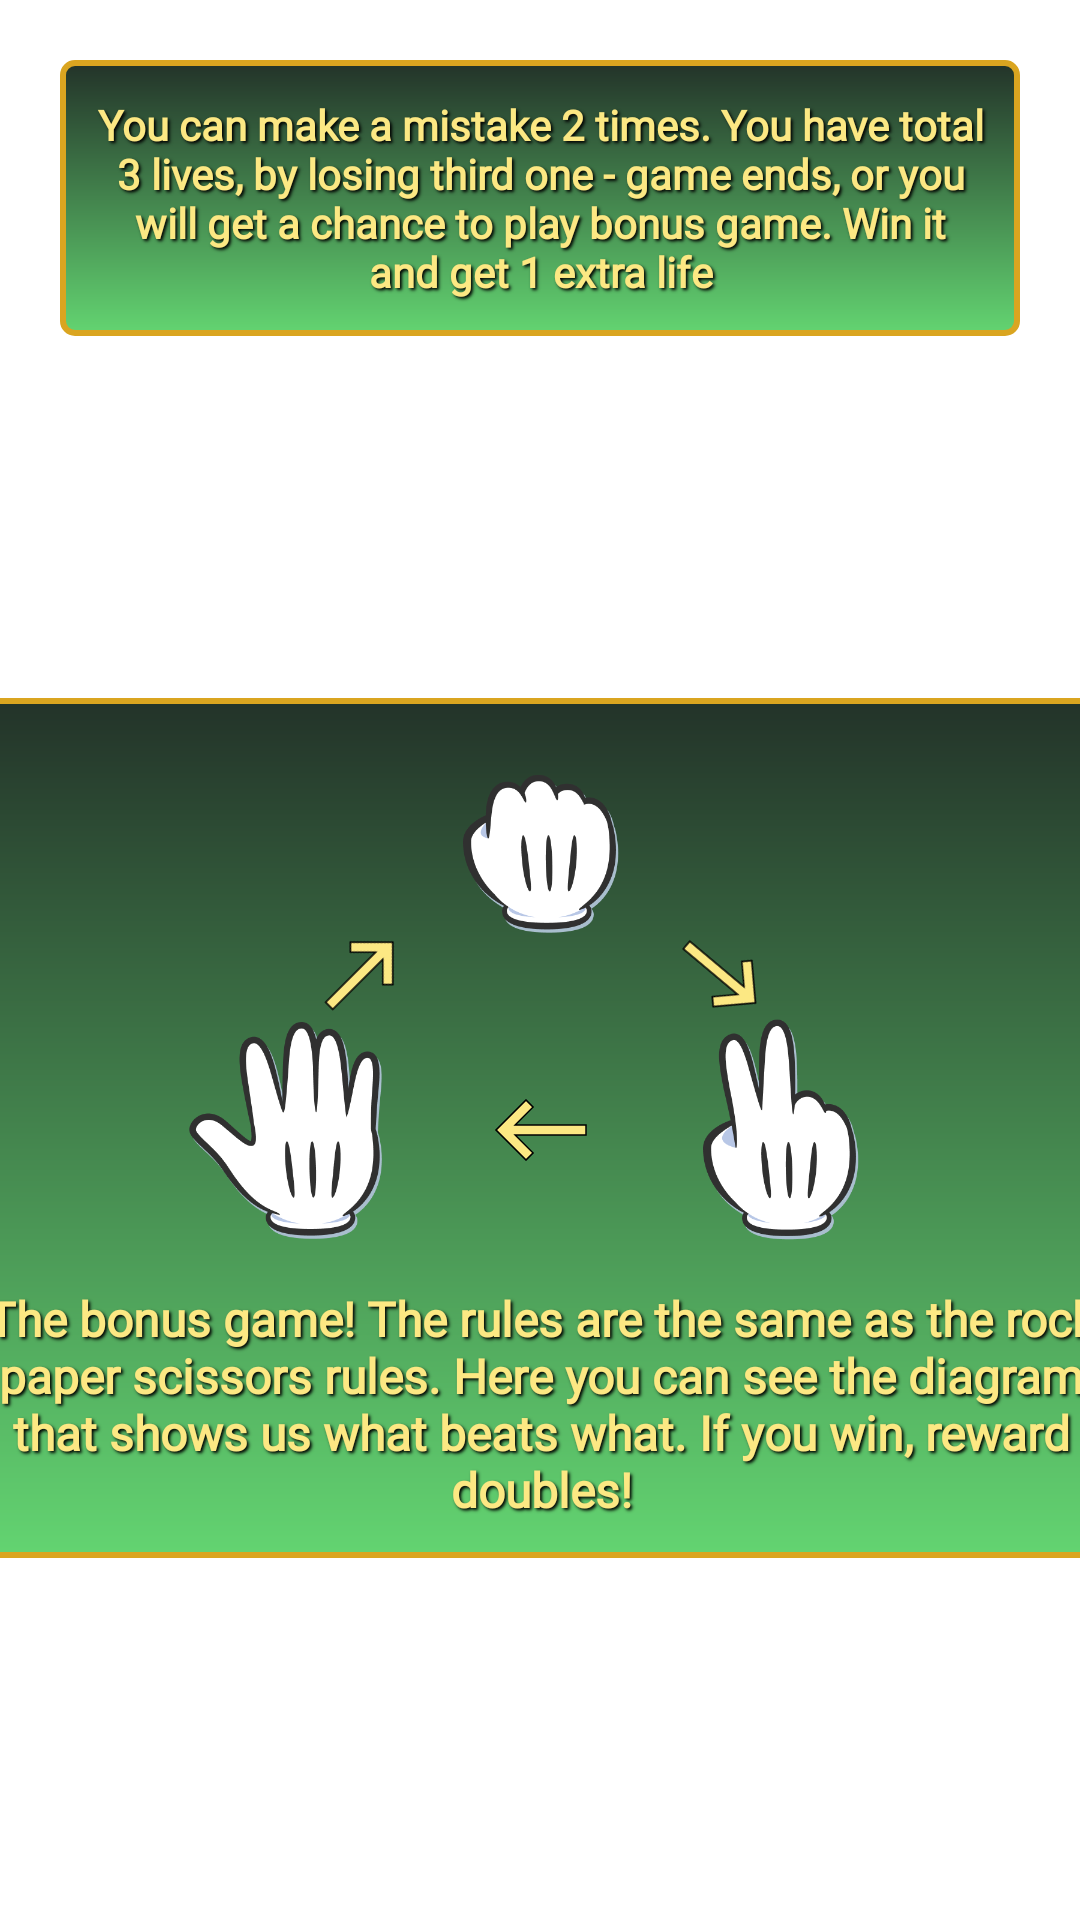

Where to tap for icons on this 1080 x 1920 app screen, as [x,y]:
rock: [541,854]
